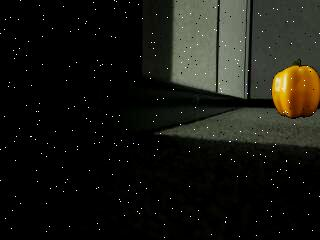Capsicum: (271, 55, 320, 120)
